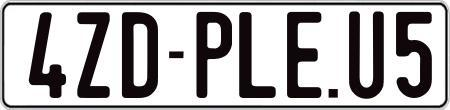4: (28, 10, 67, 99)
5: (394, 11, 433, 103)
D: (120, 12, 158, 101)
E: (284, 10, 319, 102)
L: (239, 10, 276, 99)
P: (196, 11, 237, 103)
U: (346, 10, 387, 98)
Z: (75, 11, 110, 100)
